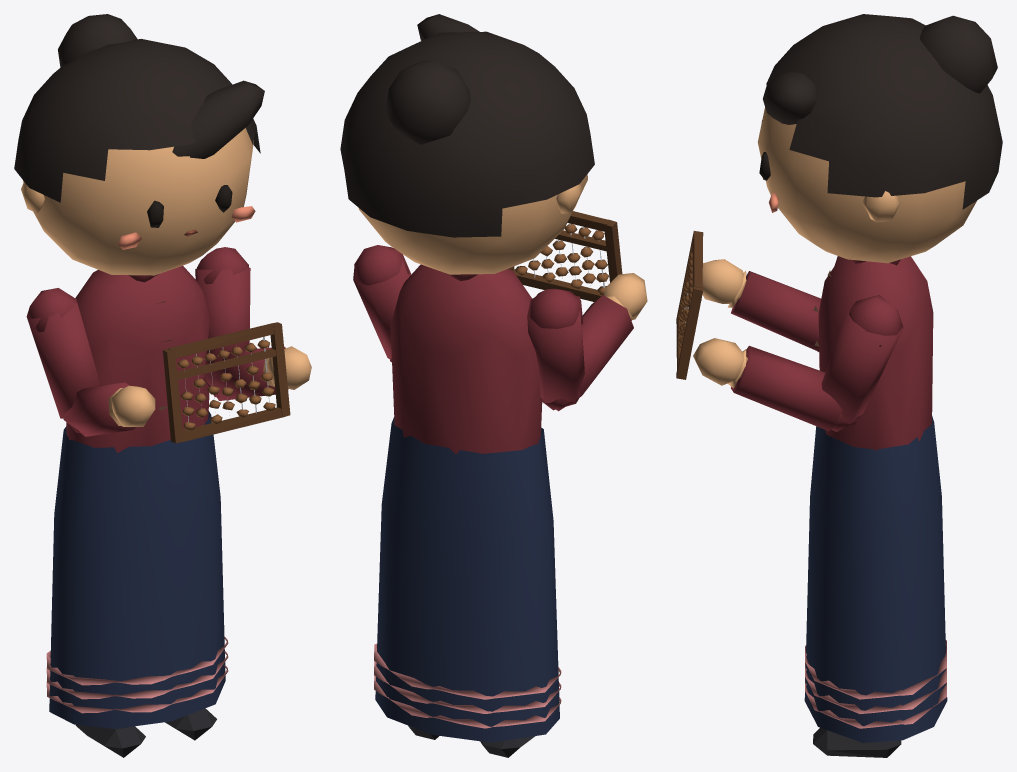
The model's file is central_abacus_woman.glb.
3 renders of one model, left to right at view 1: azimuth 30°, elevation 25°; view 2: azimuth 150°, elevation 25°; view 3: azimuth 270°, elevation 25°, orthographic. The views are drawn at different scales.
Parts seen in each view (by area): view 1: body, head, prop_abacus, arm_R, arm_L, forearm_R, forearm_L, shin_R, shin_L; view 2: body, head, arm_R, prop_abacus, forearm_R, arm_L, shin_R; view 3: body, head, forearm_L, arm_L, forearm_R, prop_abacus, shin_L.
Boxes of the visible parts, x1=… form: body: x1=46, y1=265, x2=228, y2=728; head: x1=14, y1=14, x2=264, y2=275; prop_abacus: x1=163, y1=322, x2=290, y2=443; arm_R: x1=26, y1=288, x2=100, y2=433; arm_L: x1=195, y1=247, x2=250, y2=400; forearm_R: x1=63, y1=382, x2=155, y2=436; forearm_L: x1=203, y1=346, x2=311, y2=400; shin_R: x1=75, y1=725, x2=145, y2=757; shin_L: x1=165, y1=708, x2=216, y2=740; body: x1=374, y1=264, x2=561, y2=742; head: x1=340, y1=14, x2=594, y2=274; arm_R: x1=527, y1=288, x2=584, y2=411; prop_abacus: x1=508, y1=211, x2=622, y2=301; forearm_R: x1=541, y1=273, x2=647, y2=410; arm_L: x1=353, y1=245, x2=411, y2=362; shin_R: x1=480, y1=736, x2=535, y2=757; body: x1=804, y1=256, x2=947, y2=742; head: x1=757, y1=14, x2=1002, y2=263; forearm_L: x1=693, y1=338, x2=856, y2=431; arm_L: x1=821, y1=295, x2=903, y2=431; forearm_R: x1=702, y1=259, x2=820, y2=351; prop_abacus: x1=676, y1=231, x2=703, y2=379; shin_L: x1=813, y1=727, x2=901, y2=757.
Size of the model in its own units: 0.4966 by 1.48 by 0.6086.
